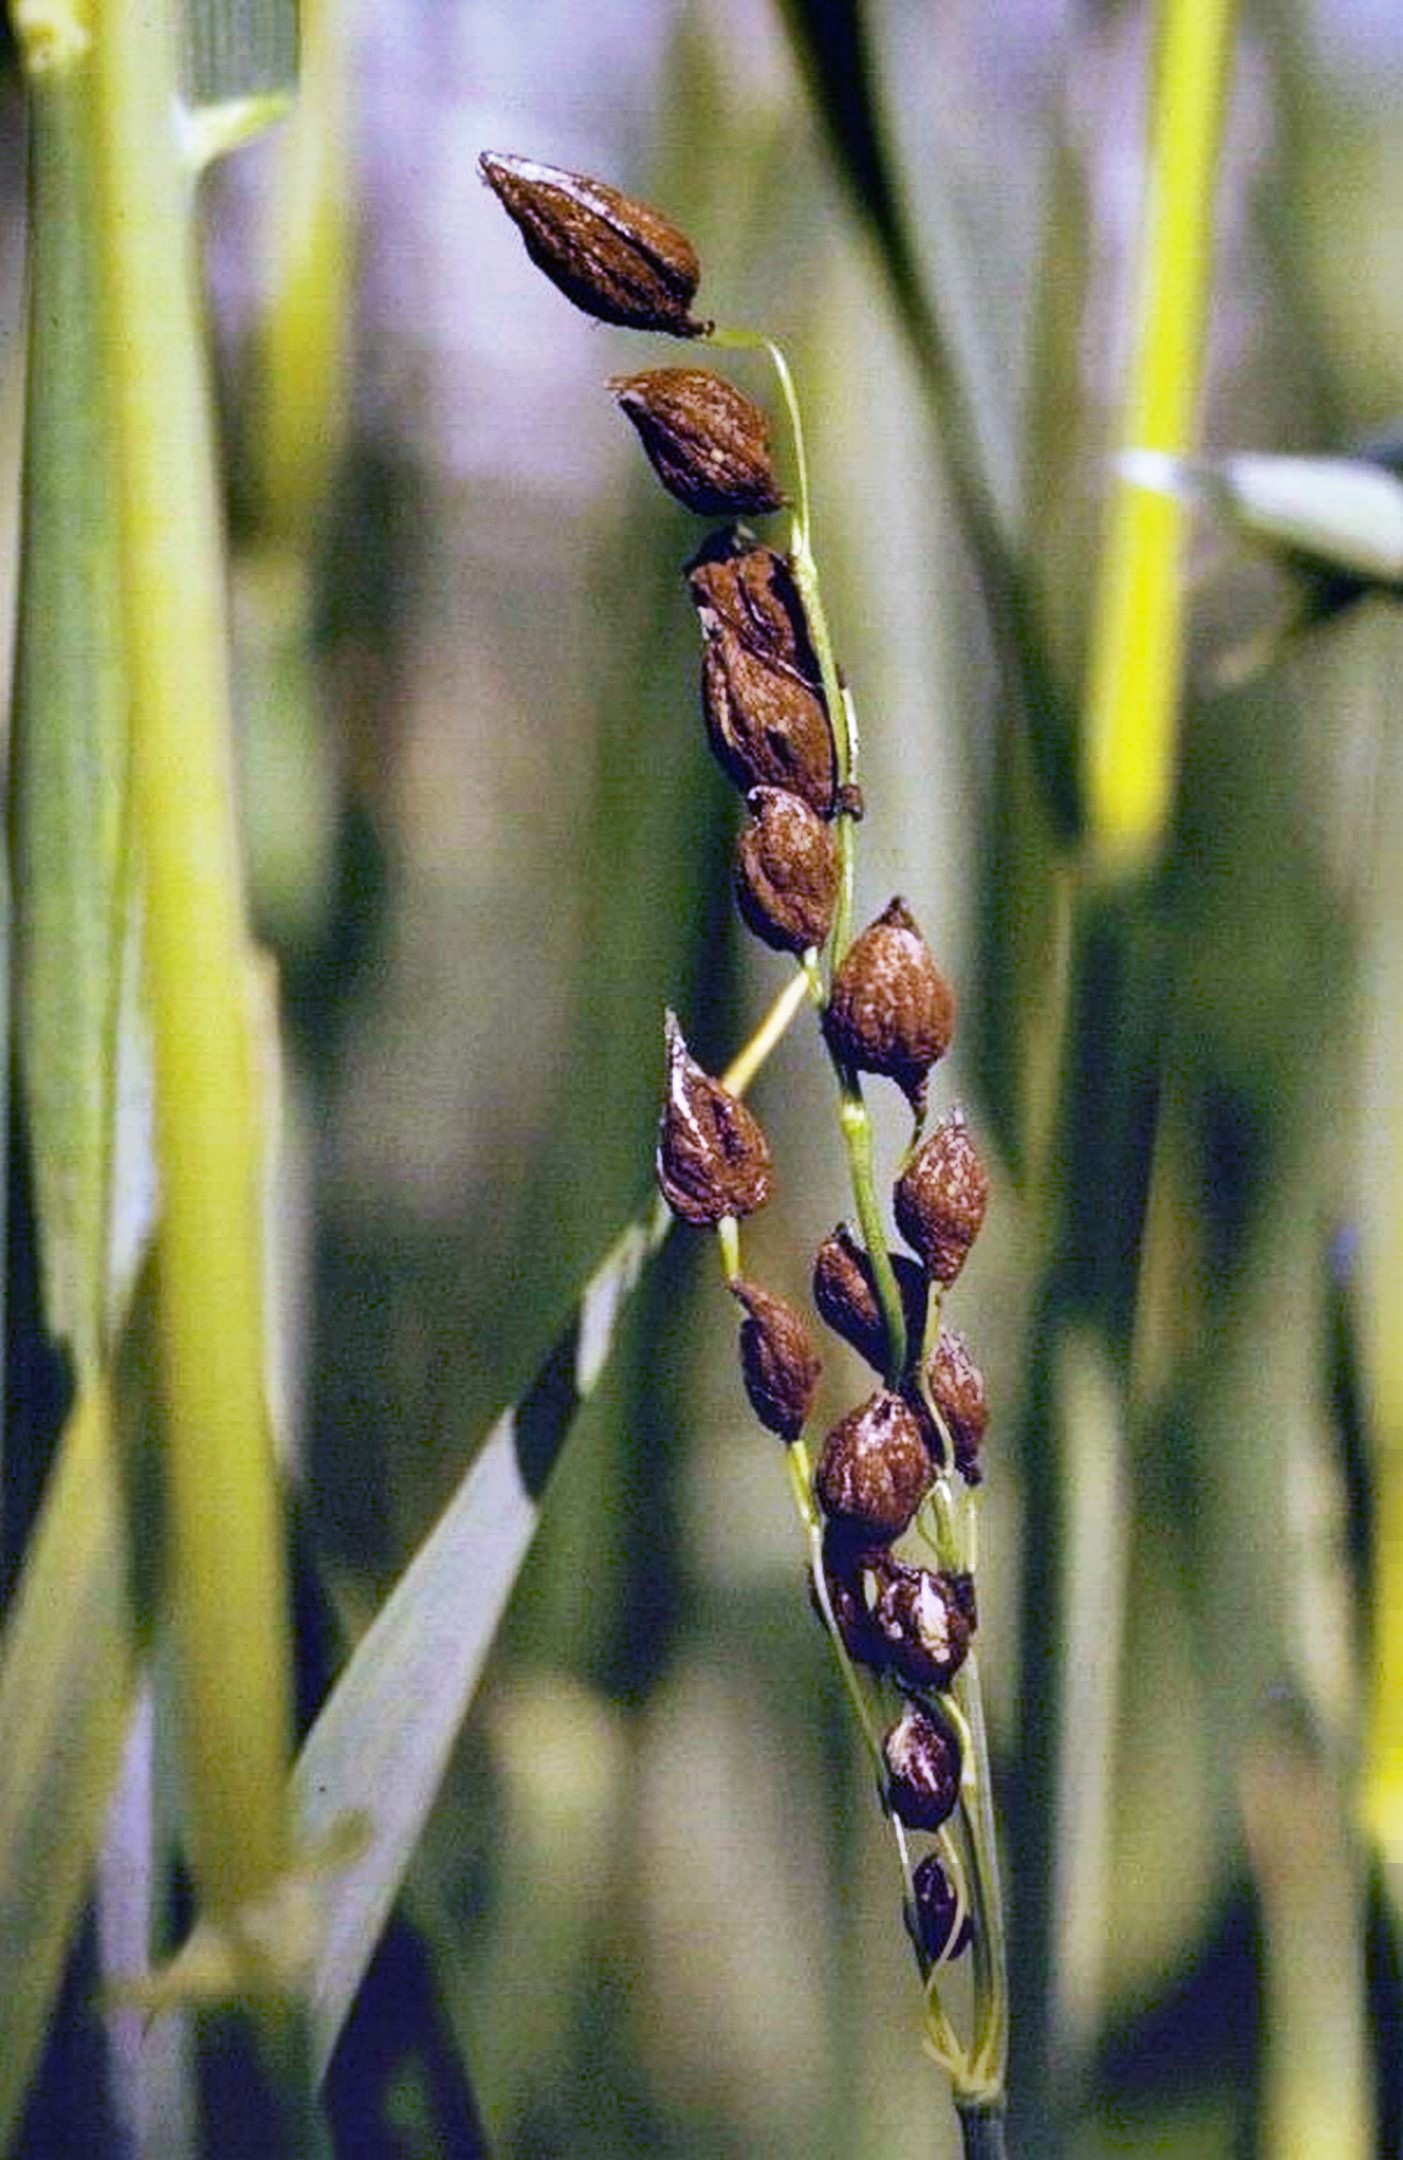Wheat Loose Smut: (474, 105, 1071, 1889)
